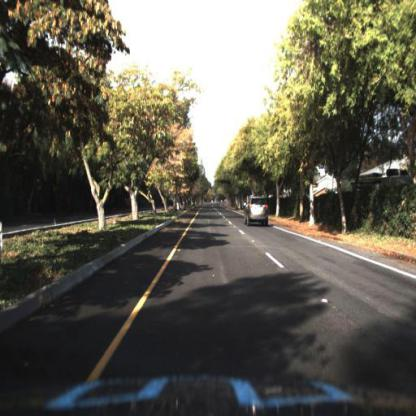car: (246, 195, 271, 227)
